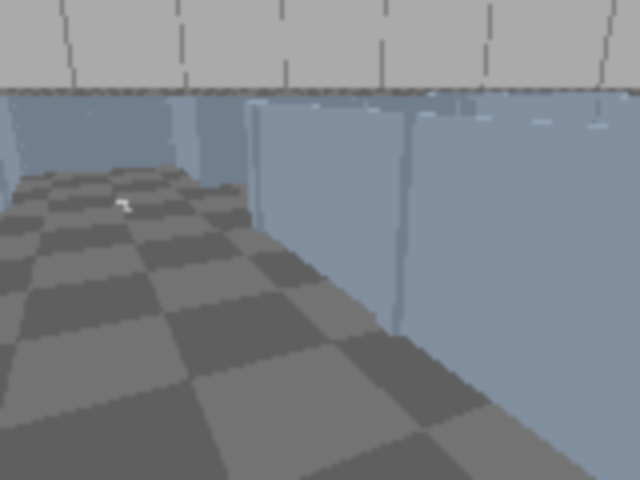puck: (111, 201, 131, 215)
